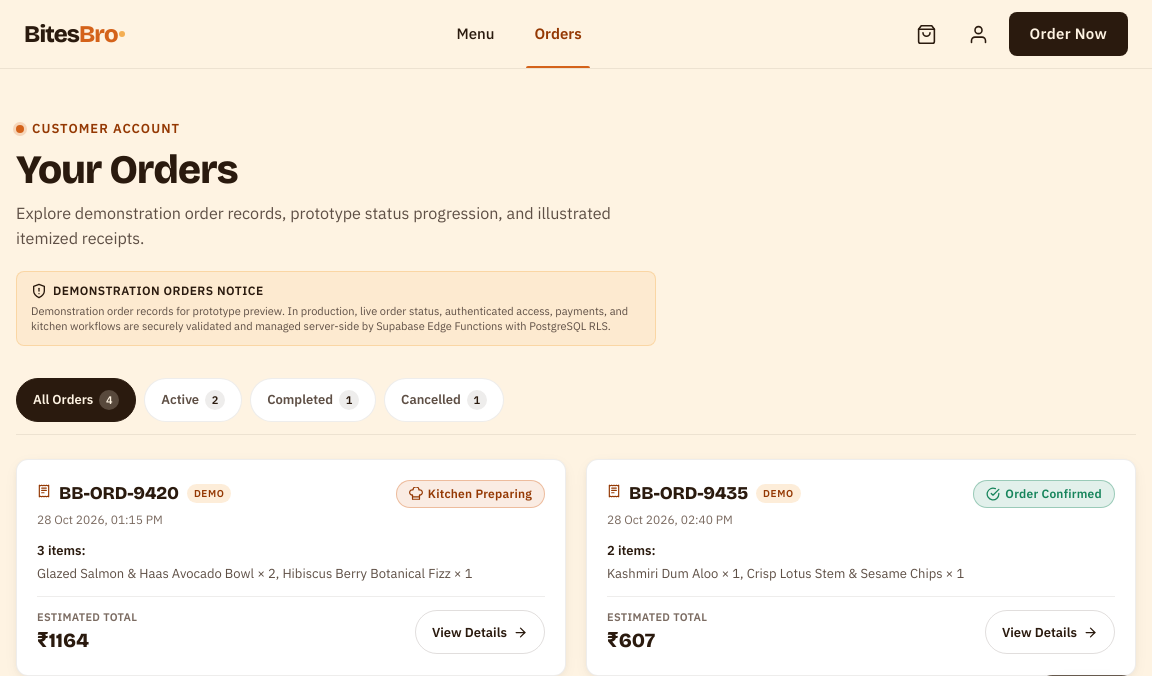
it: App Shell Integration › navigates from orders list to order detail and back to orders list
The image size is (1152, 676).
Note: Click "View Details" on the first order
Click the button with aria-label "View order details for BB-ORD-9420".
click(480, 632)  # box [415,610,545,654]
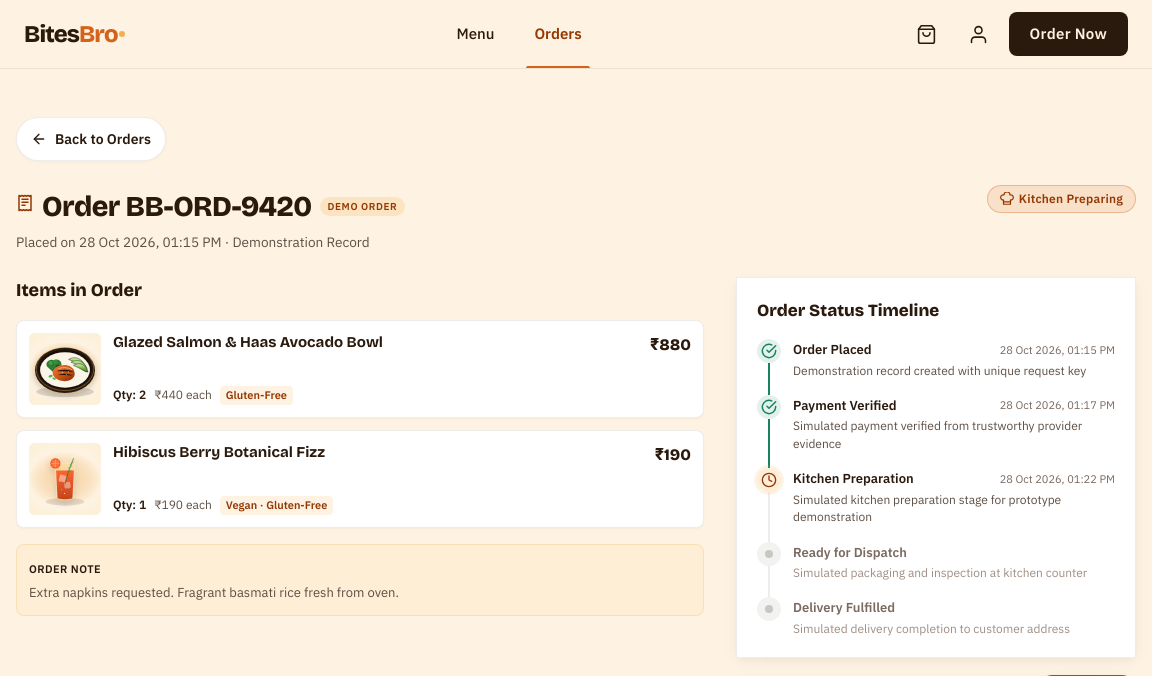
Expected: the heading "Order BB-ORD-9420" is shown, [42,185,312,228]
Note: Click "Back to Orders"
Click the button with aria-label "Back to orders list".
click(91, 139)  # box [16,117,166,161]
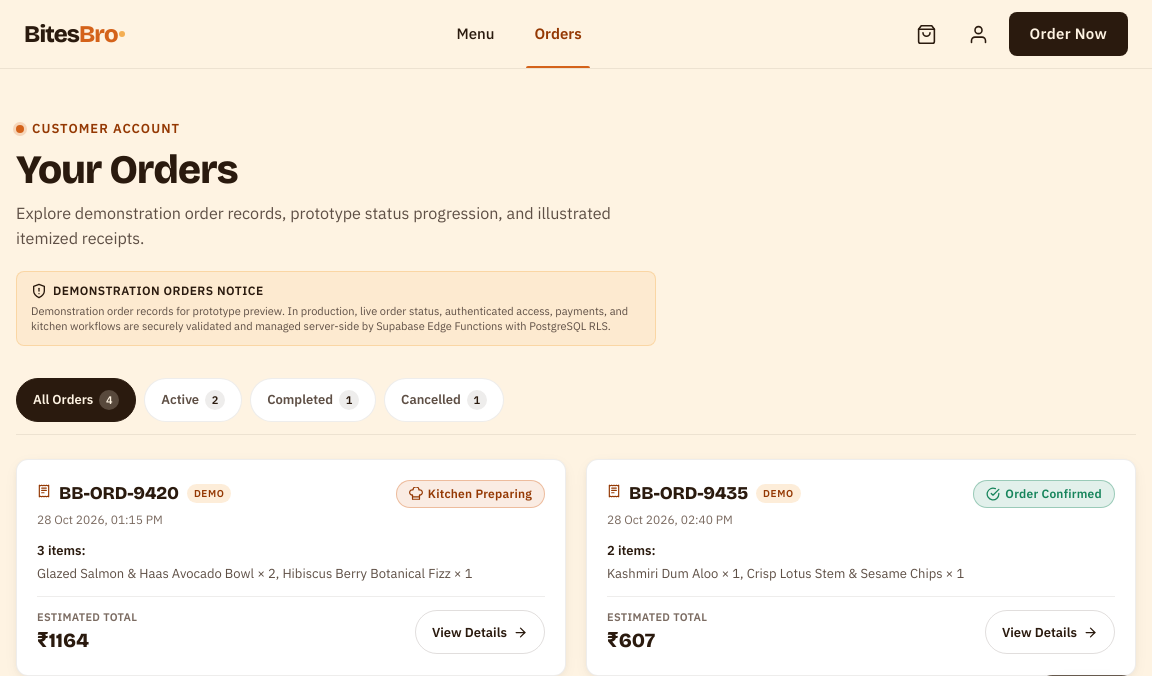
Expected: the heading "Your Orders" is shown, [16,146,238,194]
